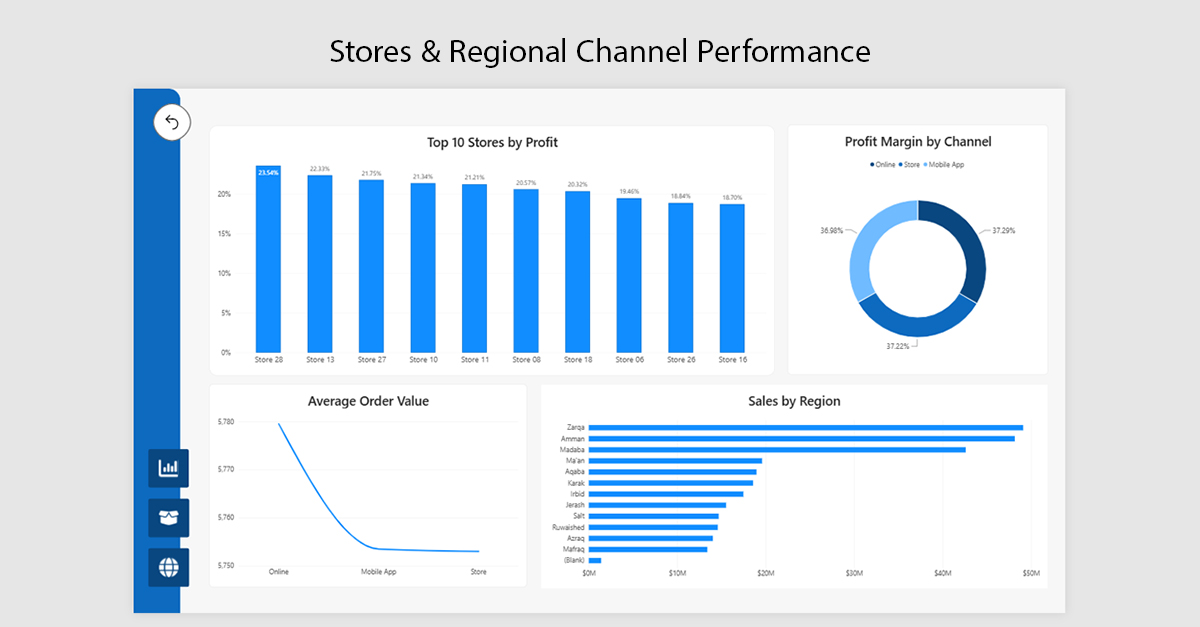

The page's visual inventory and layout, read from the dashboard file:
{"tool":"powerbi","page":{"name":"Stories and Channels","canvas":[1920,1080],"ordinal":2},"visuals":[{"type":"shape","box":[0,0,96.5,1080.4],"z":0,"group":"g2"},{"type":"donutChart","title":"Profit Margin by Channel","fields":{"Category":["Sales.Channel"],"Y":["Measure Table.Profit Margin"]},"box":[1348.2,74.1,536.6,515.1],"z":0},{"type":"actionButton","box":[39.1,30.4,78.3,78.3],"z":1000,"group":"g2"},{"type":"clusteredColumnChart","title":"Top 10 Stores by Profit","fields":{"Category":["Stores.StoreName"],"Y":["Measure Table.YoY %"]},"box":[156.5,76.1,1165.2,515.2],"z":1000},{"type":"clusteredBarChart","title":"Sales by Region","fields":{"Category":["Customers.City Hierarchy Customers.City","Customers.City Hierarchy Customers.Region"],"Y":["Measure Table.Total Revenue"]},"box":[839.1,610.9,1043.5,419.6],"z":2000},{"type":"actionButton","box":[29.4,742.8,83.9,80],"z":2000,"group":"g2"},{"type":"textbox","box":[137,60,222,515],"z":3000},{"type":"actionButton","box":[30.4,945.7,84.8,80.4],"z":3000,"group":"g2"},{"type":"lineChart","title":"Average Order Value","fields":{"Category":["Sales.Channel"],"Y":["Measure Table.Average Order Value"]},"box":[156.5,608.7,654.3,419.6],"z":4000},{"type":"actionButton","box":[30.4,844,84.8,80.4],"z":4000,"group":"g2"},{"type":"group","id":"g1","title":"Group 7","box":[0,0,117.4,1080.4],"z":5000},{"type":"group","id":"g2","title":"Group 6","box":[0,0,117.4,1080.4],"z":7000,"group":"g1"}]}

Visuals, with their boxes on the page's 1920x1080 design canvas (x1, y1, x2, y2). These are canvas units, not pixel positions in the 1200x627 screenshot, which may show the page scaled, cropped or inside an application window:
shape: bbox=(0, 0, 96, 1080)
"Profit Margin by Channel" donutChart: bbox=(1348, 74, 1885, 589)
actionButton: bbox=(39, 30, 117, 109)
"Top 10 Stores by Profit" clusteredColumnChart: bbox=(156, 76, 1322, 591)
"Sales by Region" clusteredBarChart: bbox=(839, 611, 1883, 1030)
actionButton: bbox=(29, 743, 113, 823)
textbox: bbox=(137, 60, 359, 575)
actionButton: bbox=(30, 946, 115, 1026)
"Average Order Value" lineChart: bbox=(156, 609, 811, 1028)
actionButton: bbox=(30, 844, 115, 924)
"Group 7" group: bbox=(0, 0, 117, 1080)
"Group 6" group: bbox=(0, 0, 117, 1080)
